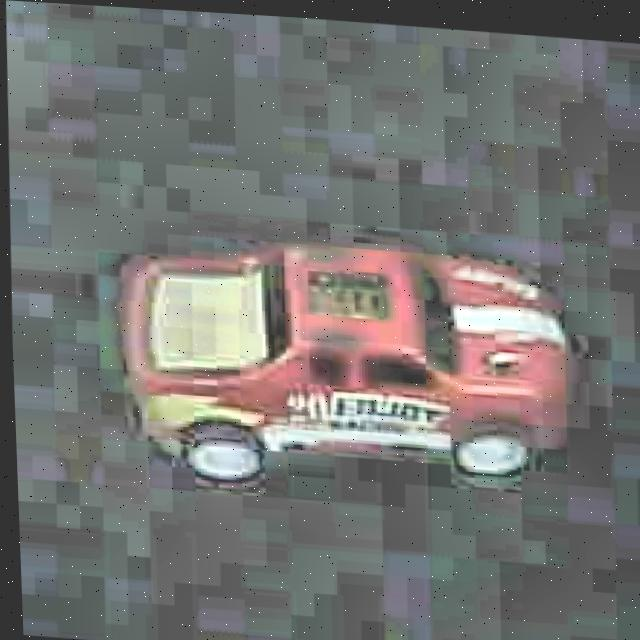car: (112, 217, 580, 520)
